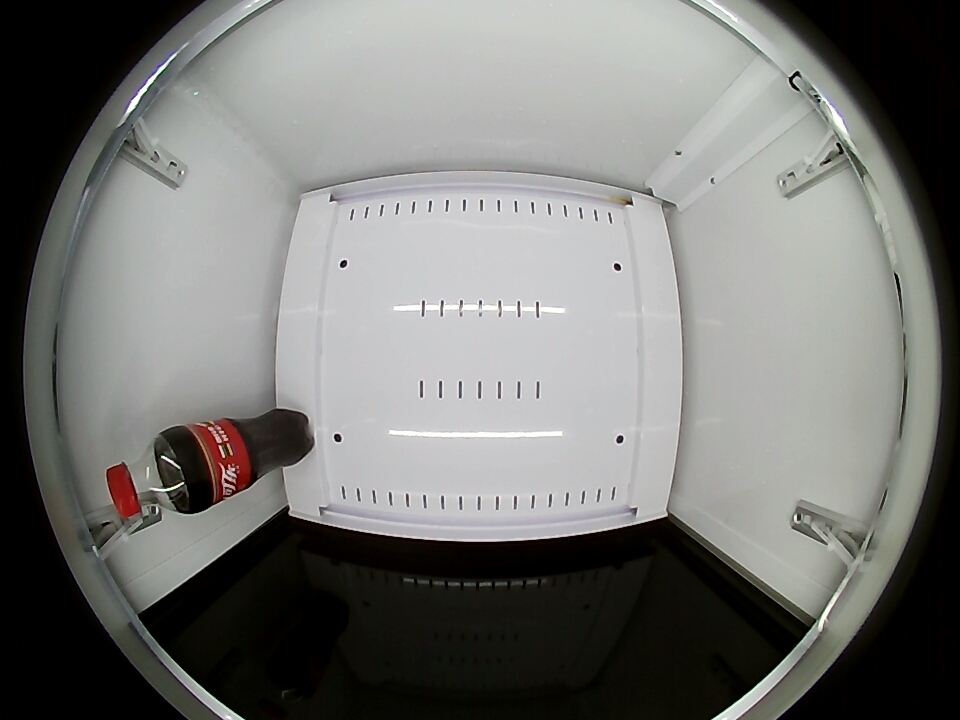kele-b: (106, 434, 193, 520)
